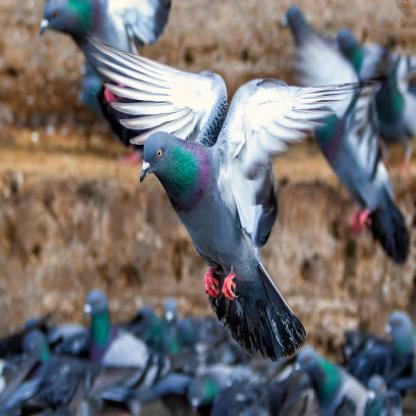Flying Rat: (84, 54, 369, 373), (31, 1, 181, 55)
